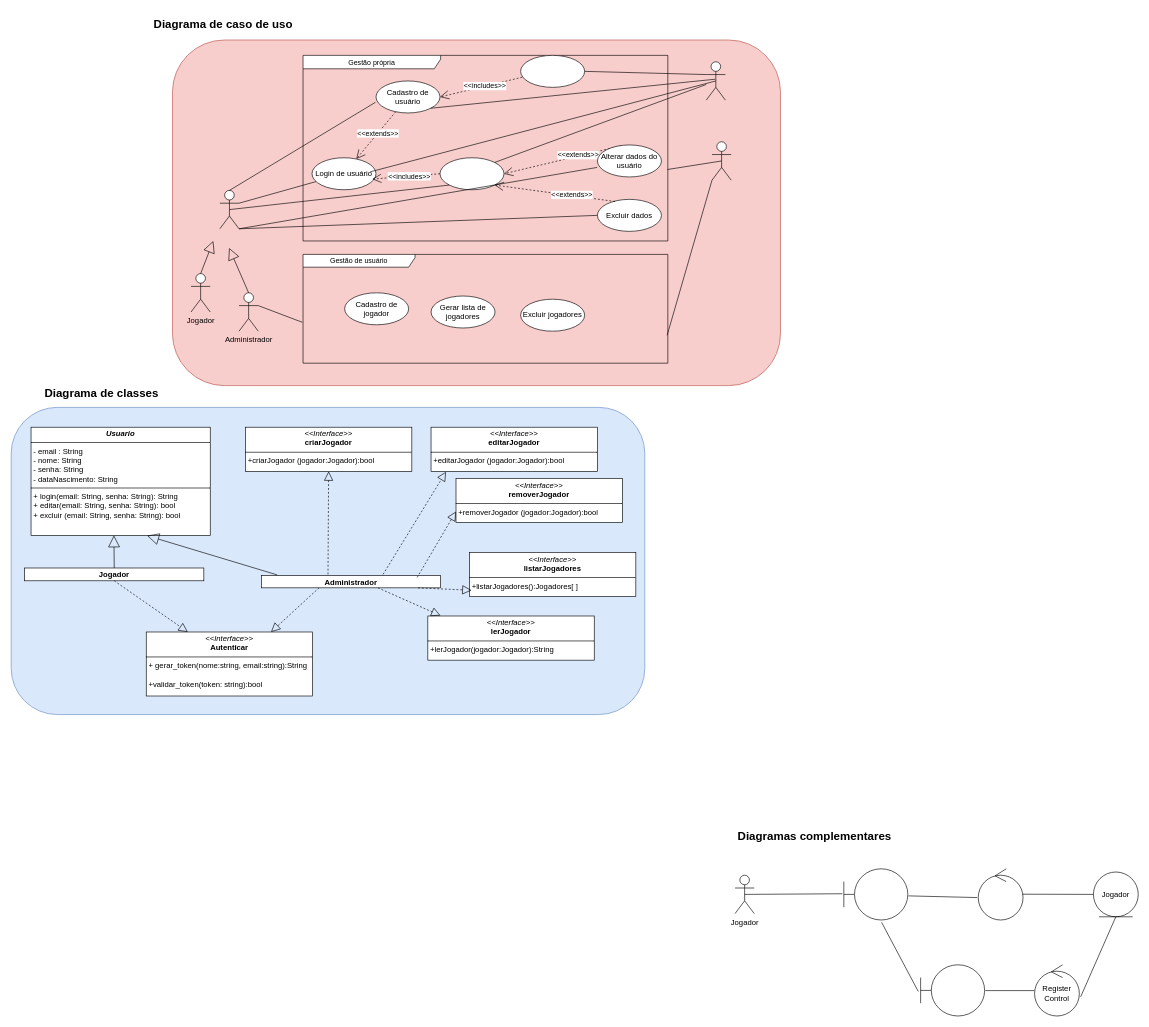
Image size: 1149x1027. Some labels were removed from this diagram. Here are the shapes that lost their labels. From the top down, the centre of each, then its label:
At pixel 552 71: "Notificação de usuário criado".
At pixel 715 80: "Demais aplicações".
At pixel 471 173: "Detalhes do usuário".
At pixel 721 160: "BD".
At pixel 229 209: "Usuário".
At pixel 875 894: "Login".
At pixel 1000 894: "Login Control".
At pixel 952 990: "Cadastro".
